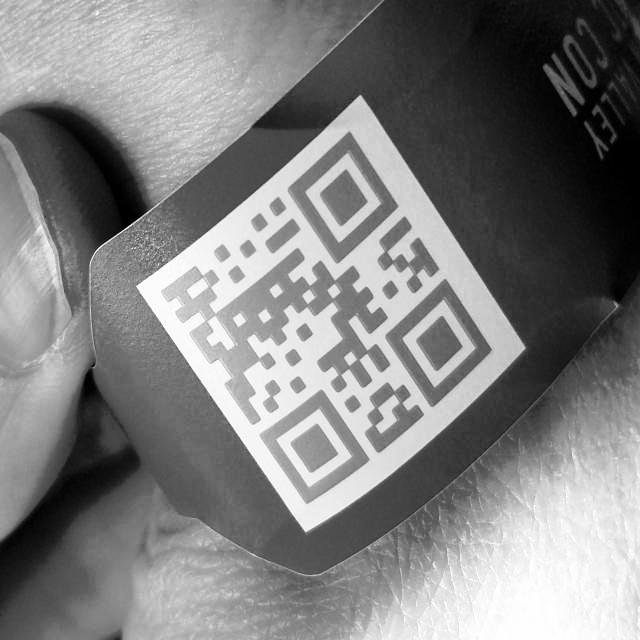qr_code: (153, 120, 501, 515)
